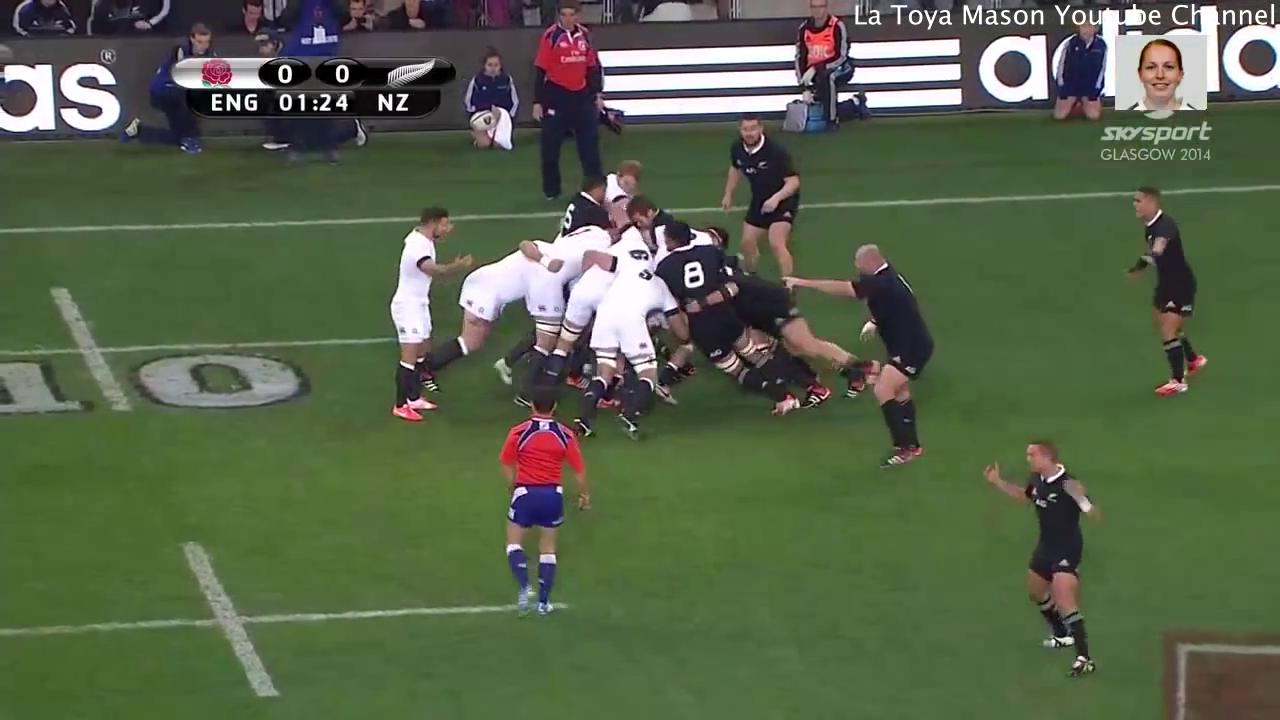10_metre: (1, 532, 579, 712), (1, 273, 426, 428)
player: (775, 240, 939, 478), (970, 424, 1114, 691), (650, 227, 833, 413), (365, 192, 478, 432), (485, 384, 594, 628), (1105, 180, 1217, 408), (565, 254, 681, 443), (413, 235, 542, 384), (708, 103, 813, 281), (577, 153, 649, 232), (542, 173, 615, 236)
